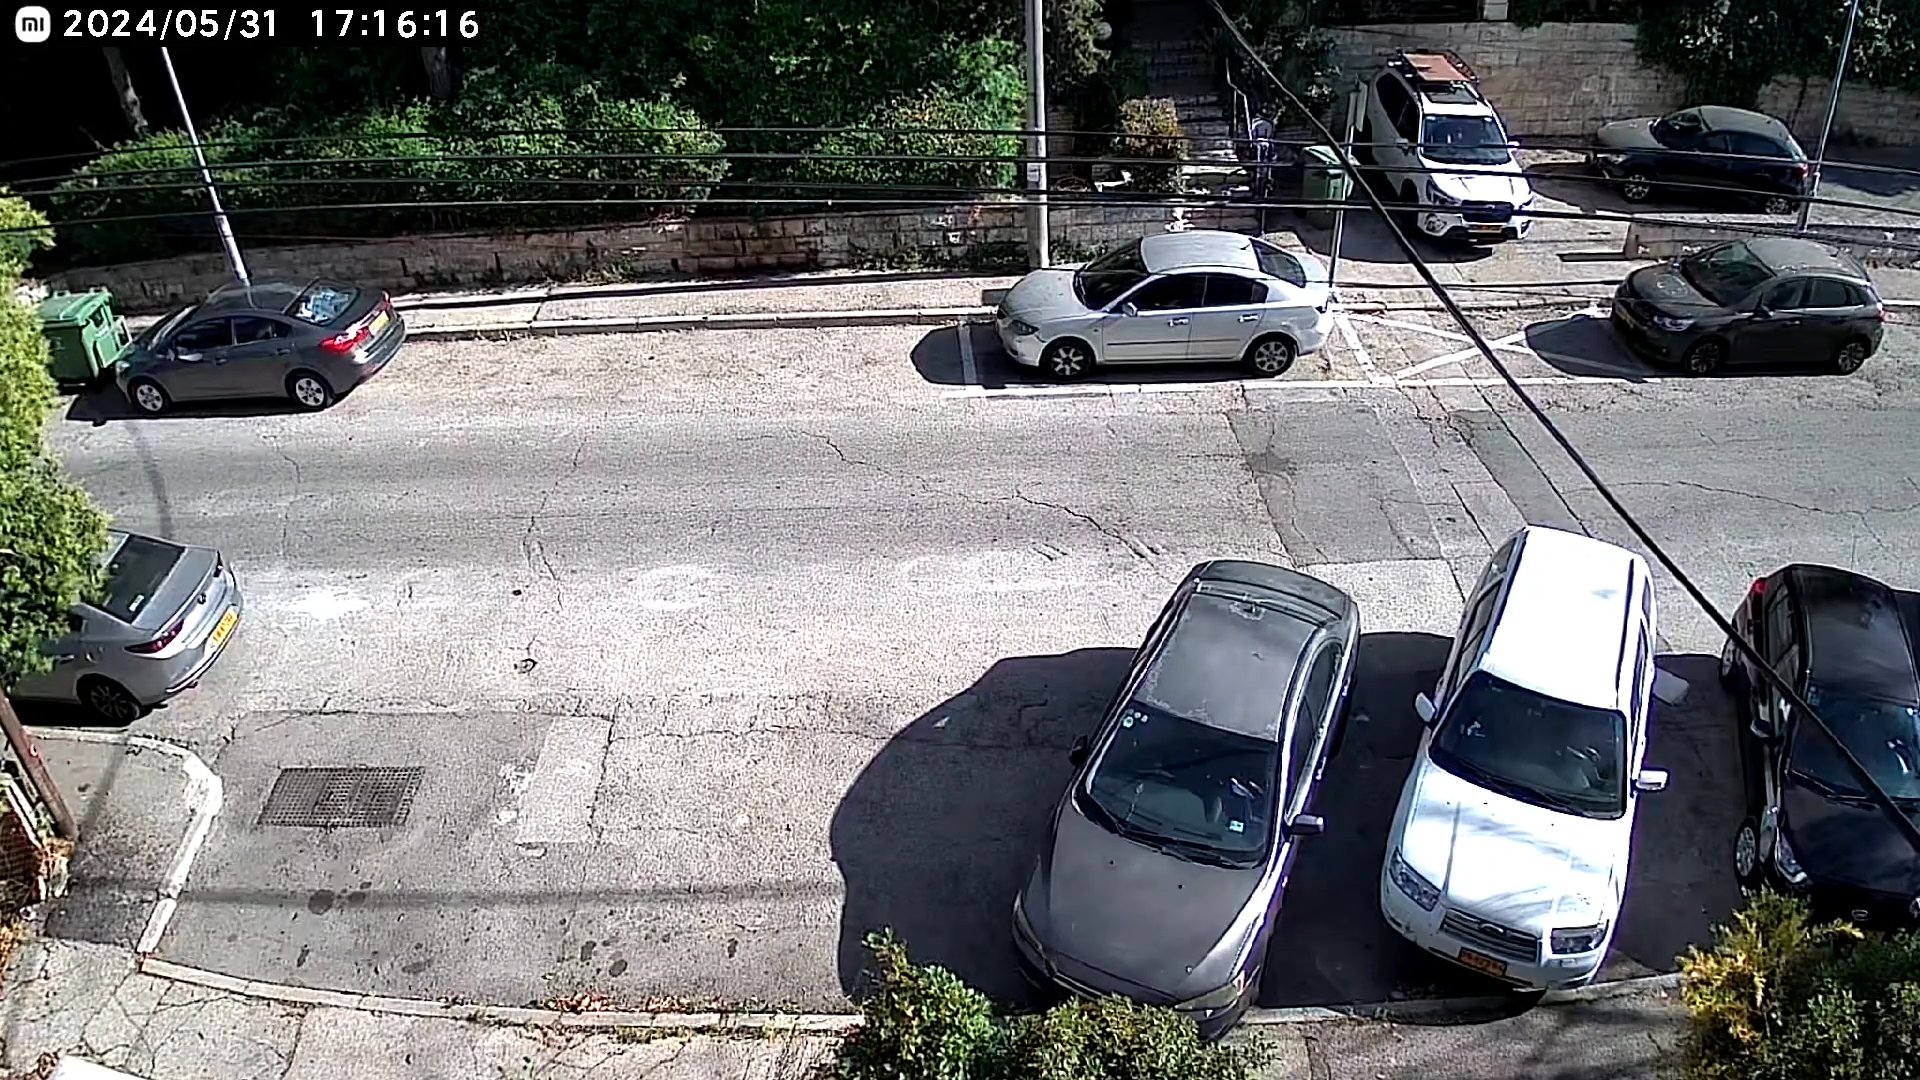empty: (181, 535, 1067, 976), (397, 225, 969, 404)
